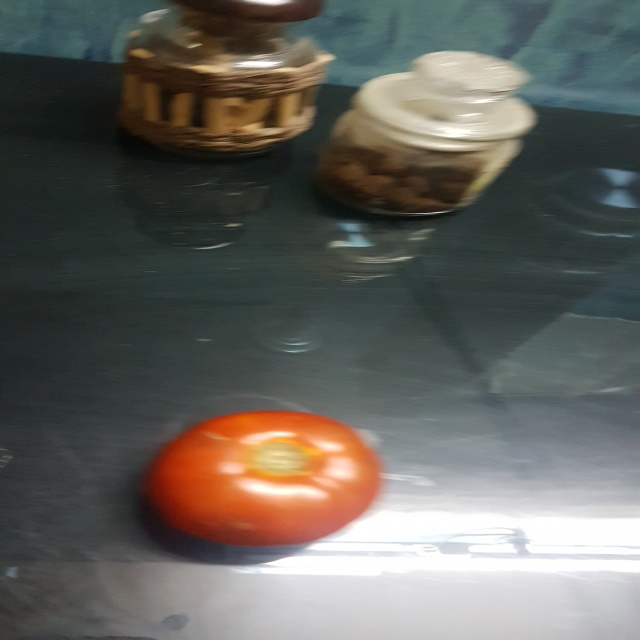tomato: (141, 400, 386, 561)
